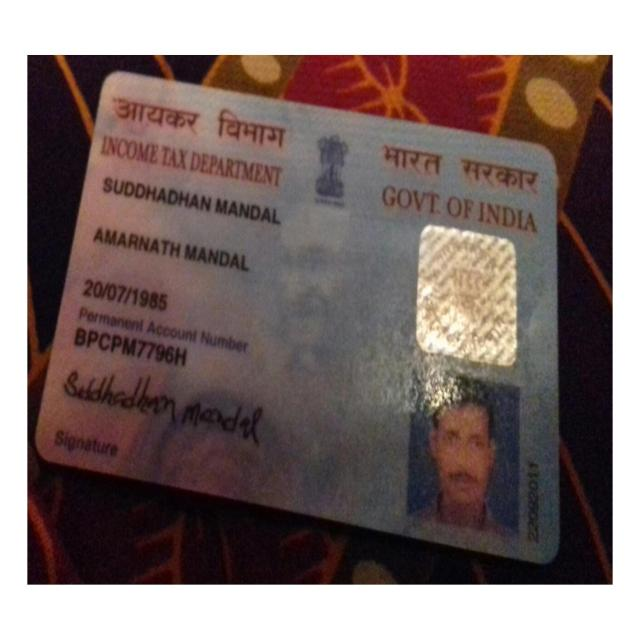pan_card: (36, 74, 555, 566)
